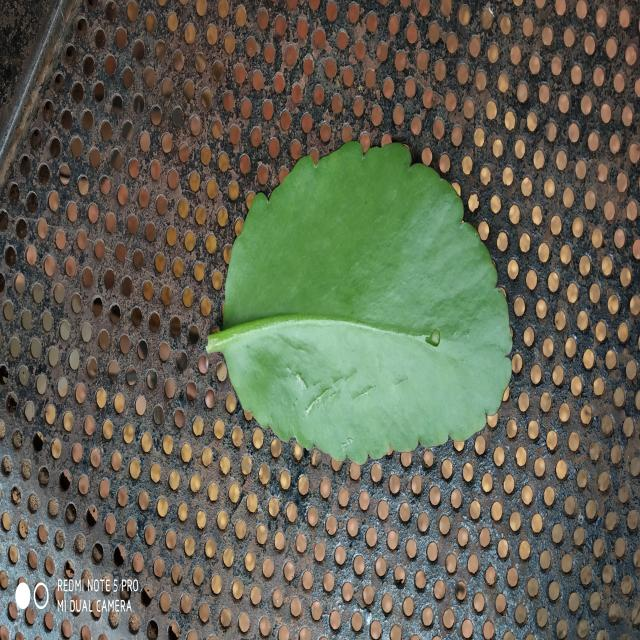spinach: (208, 142, 511, 464)
